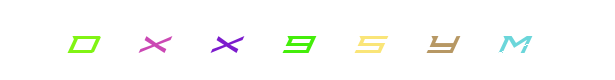9: (267, 0, 347, 80)
D: (129, 0, 209, 80)
M: (475, 0, 555, 80)
S: (309, 0, 389, 80)
X: (162, 0, 242, 80), (187, 0, 267, 80)
Y: (402, 0, 482, 80)
